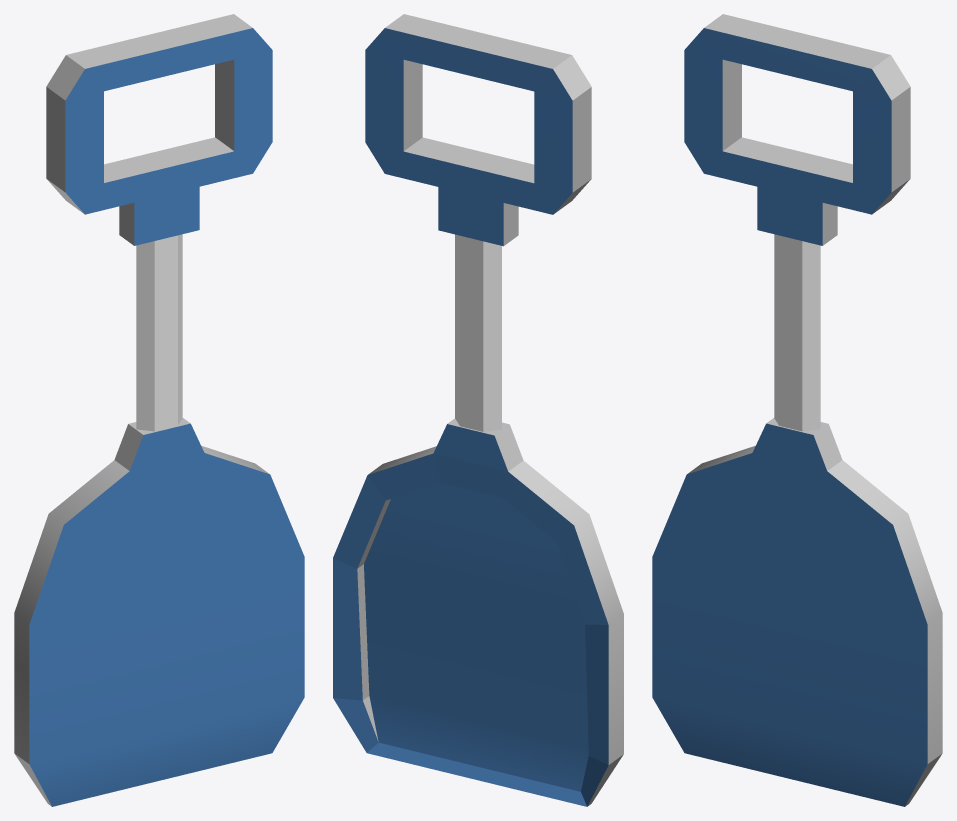
File: SM_Shovel_001.fbx
3 renders of one model, left to right at view 1: azimuth 30°, elevation 25°; view 2: azimuth 150°, elevation 25°; view 3: azimuth 330°, elevation 25°, orthographic.
Parts seen in each view (by area): view 1: sM_pelle_002; view 2: sM_pelle_002; view 3: sM_pelle_002.
Boxes of the visible parts, x1,y1,x2,y2 form: sM_pelle_002: (14, 14, 304, 806); sM_pelle_002: (333, 14, 623, 806); sM_pelle_002: (652, 14, 942, 806).
Size of the model in its own units: 4.78 by 12.21 by 0.577.
